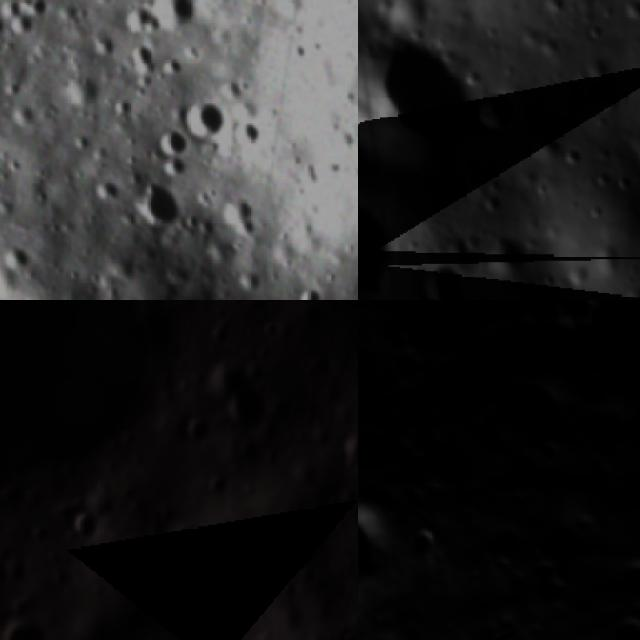crater: (0, 300, 173, 497), (358, 17, 488, 197), (473, 355, 587, 469), (369, 300, 524, 382), (358, 472, 431, 605), (509, 534, 595, 622), (561, 384, 640, 467), (358, 180, 405, 300), (469, 81, 527, 145), (129, 170, 189, 231), (413, 252, 474, 300), (180, 91, 229, 145), (406, 516, 456, 566), (604, 543, 640, 612), (226, 389, 272, 442), (160, 513, 209, 560), (106, 0, 164, 39), (211, 188, 260, 230), (148, 0, 206, 35), (614, 115, 640, 191), (63, 502, 103, 548), (230, 115, 273, 155), (151, 120, 194, 160), (0, 612, 58, 640), (600, 601, 640, 640), (179, 414, 216, 454), (201, 467, 237, 507), (358, 389, 374, 455), (22, 0, 62, 23), (184, 300, 244, 311), (539, 0, 572, 17), (620, 0, 640, 26)
